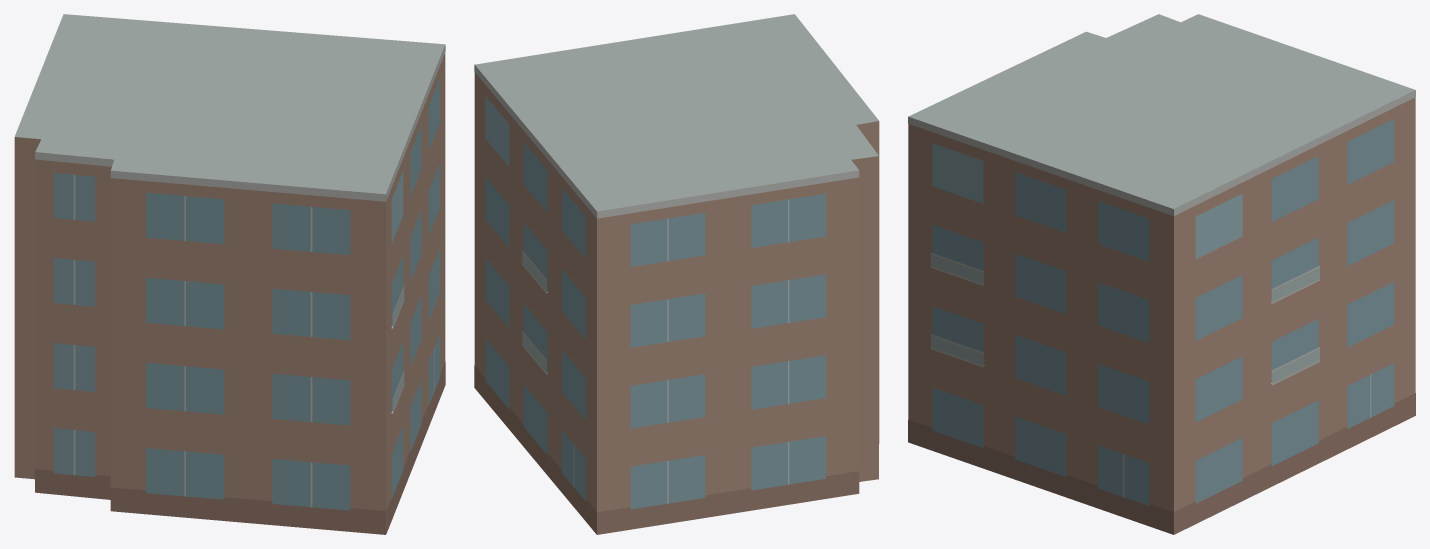
The model's file is survey-upis-32570024.glb.
3 renders of one model, left to right at view 1: azimuth 30°, elevation 25°; view 2: azimuth 150°, elevation 25°; view 3: azimuth 270°, elevation 25°, orthographic. The views are drawn at different scales.
Visible parts, largest first — view 1: survey-upis-32570024.tmp; view 2: survey-upis-32570024.tmp; view 3: survey-upis-32570024.tmp.
Part boxes in pixels (box(x1,y1,x2,y2)): survey-upis-32570024.tmp: box(14, 14, 445, 534); survey-upis-32570024.tmp: box(474, 14, 879, 534); survey-upis-32570024.tmp: box(908, 14, 1415, 534).
Size of the model in its own units: 14.4 by 11.2 by 15.83.
